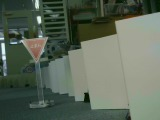stop: (21, 37, 48, 62)
